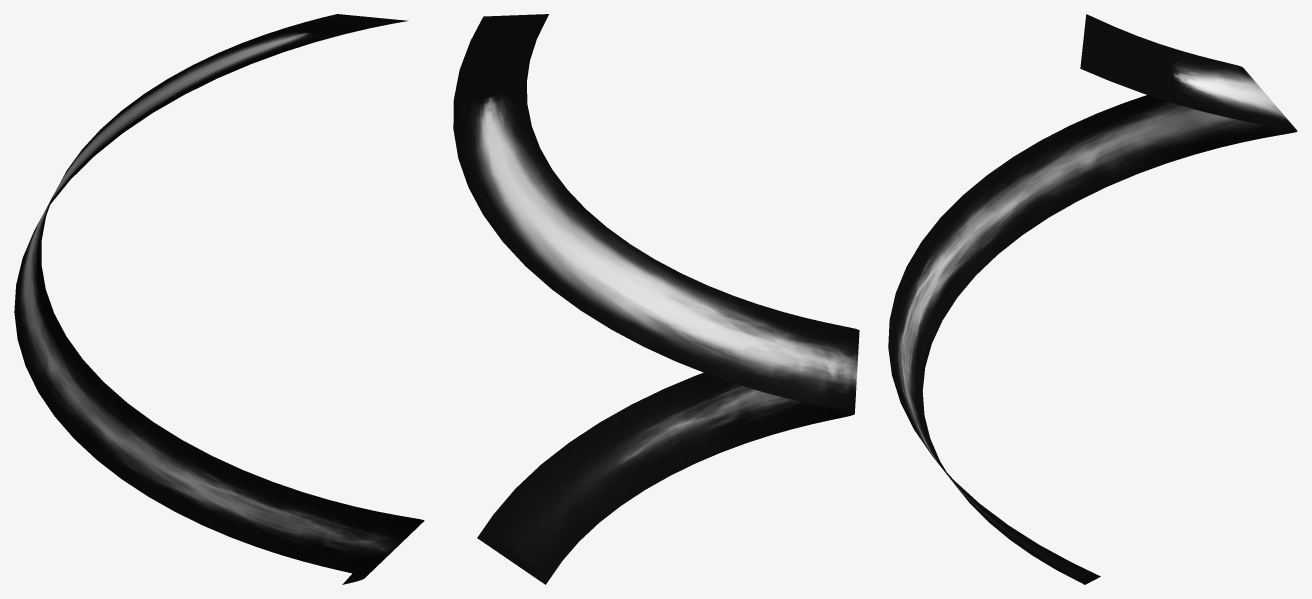
Rendered from luoxuandai01.FBX.
3 views of the same model, side by side, from view 1: azimuth 30°, elevation 25°; view 2: azimuth 150°, elevation 25°; view 3: azimuth 270°, elevation 25° (orthographic).
Visible parts, largest first — view 1: luoxuandai; view 2: luoxuandai; view 3: luoxuandai.
Boxes of the visible parts, box(x1,y1,x2,y2) form: luoxuandai: box(14, 14, 424, 584); luoxuandai: box(453, 14, 859, 584); luoxuandai: box(888, 14, 1297, 584).
Bounding box in the file's own units: 49 × 74.78 × 48.77.
